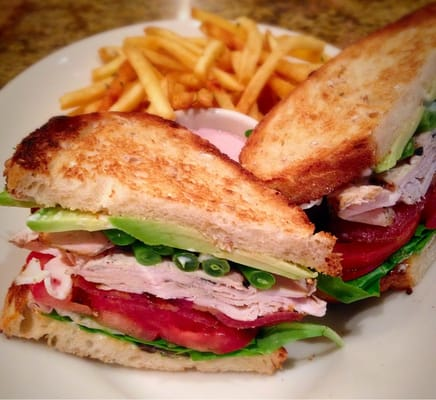soup: (238, 7, 436, 307)
